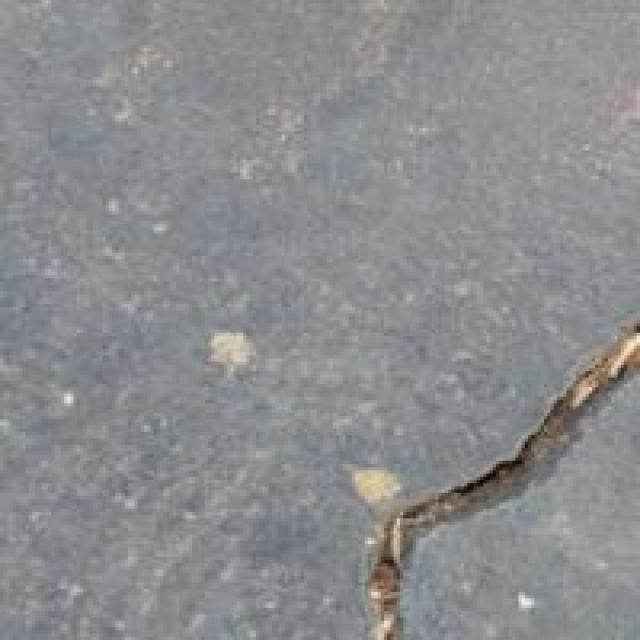Crack: (352, 320, 637, 637)
